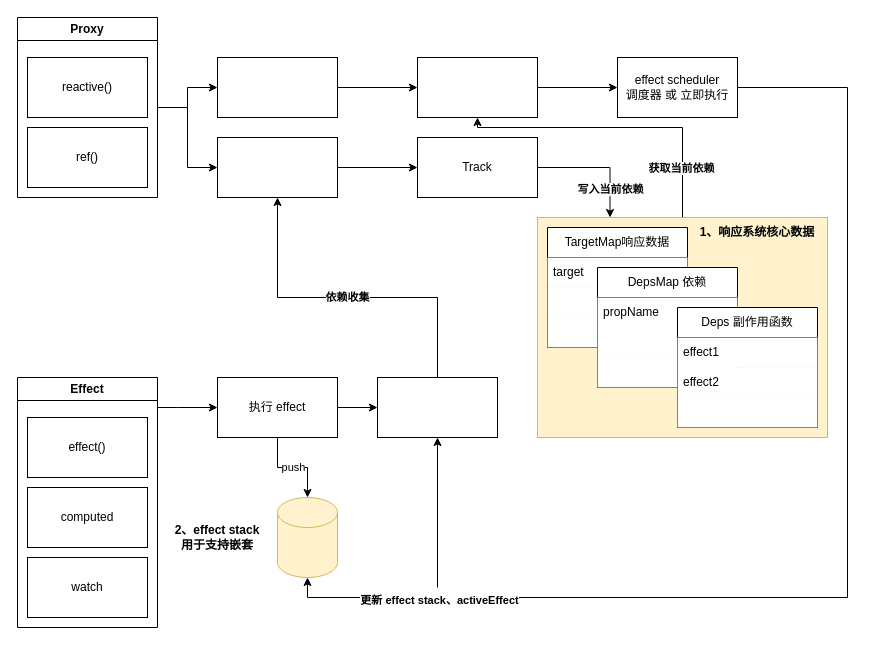
Some shapes in this 873 by 645 pixel diagram are drawn without their labels. The centre of each missing label's shape, as x and y in pixels:
"activeEffect" goes at point (437, 407).
"effect stack" goes at point (307, 537).
"getter" goes at point (277, 167).
"setter" goes at point (277, 87).
"Trigger" goes at point (477, 87).
